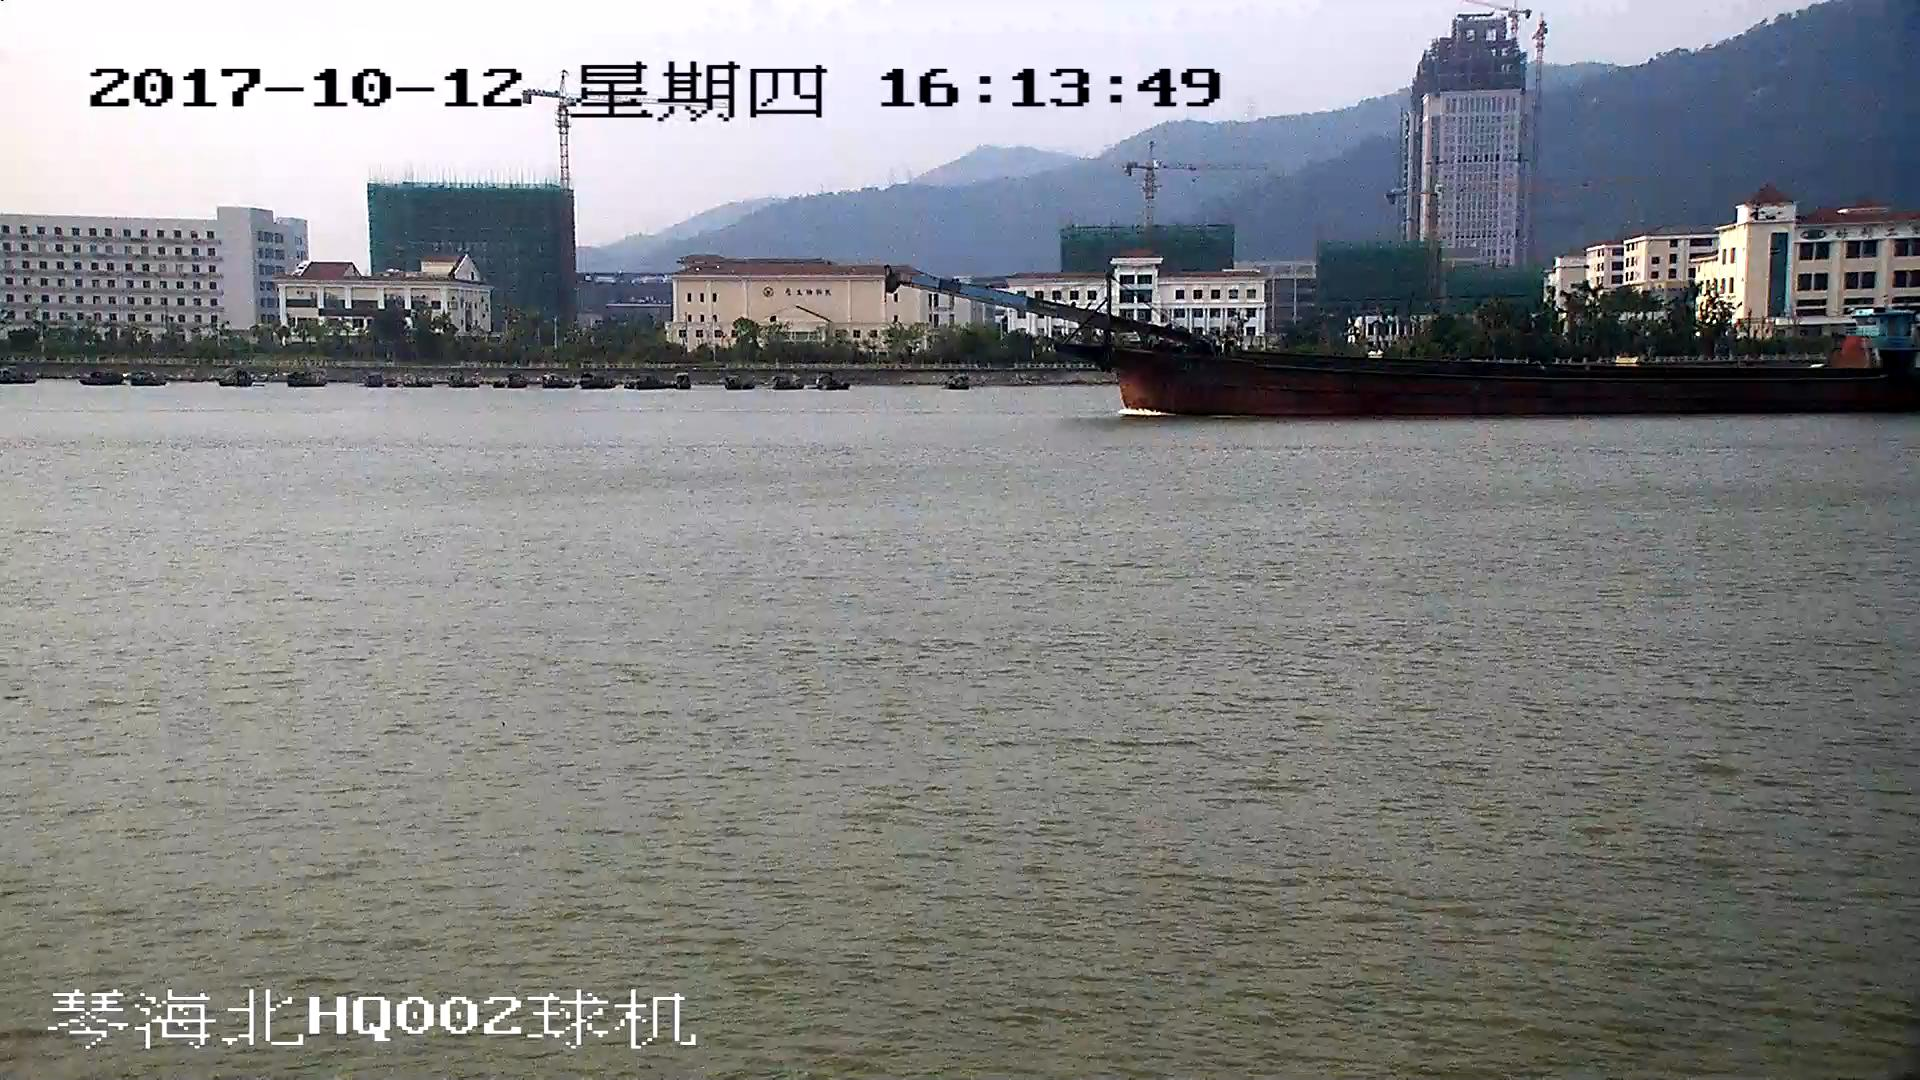bulk cargo carrier: (891, 268, 1920, 414)
